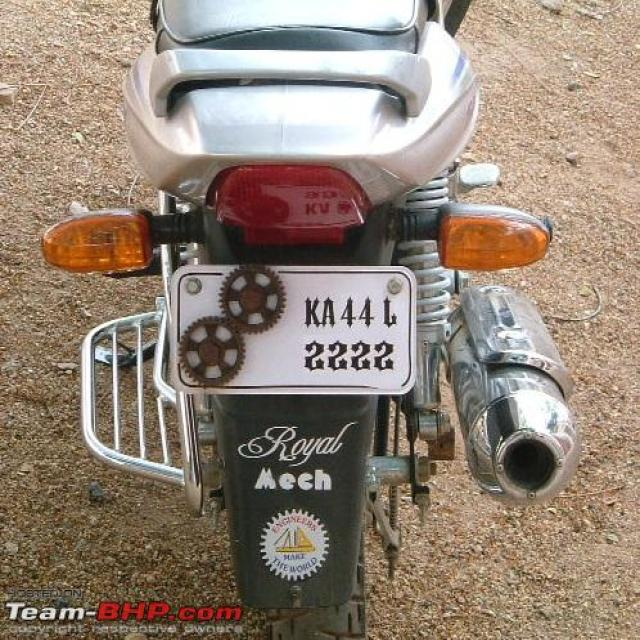number plate: (165, 260, 418, 396)
